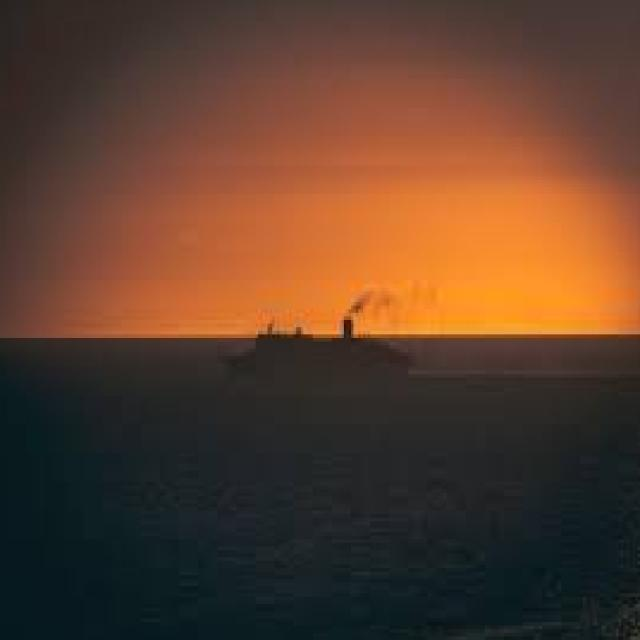cargoship: (199, 283, 421, 388)
